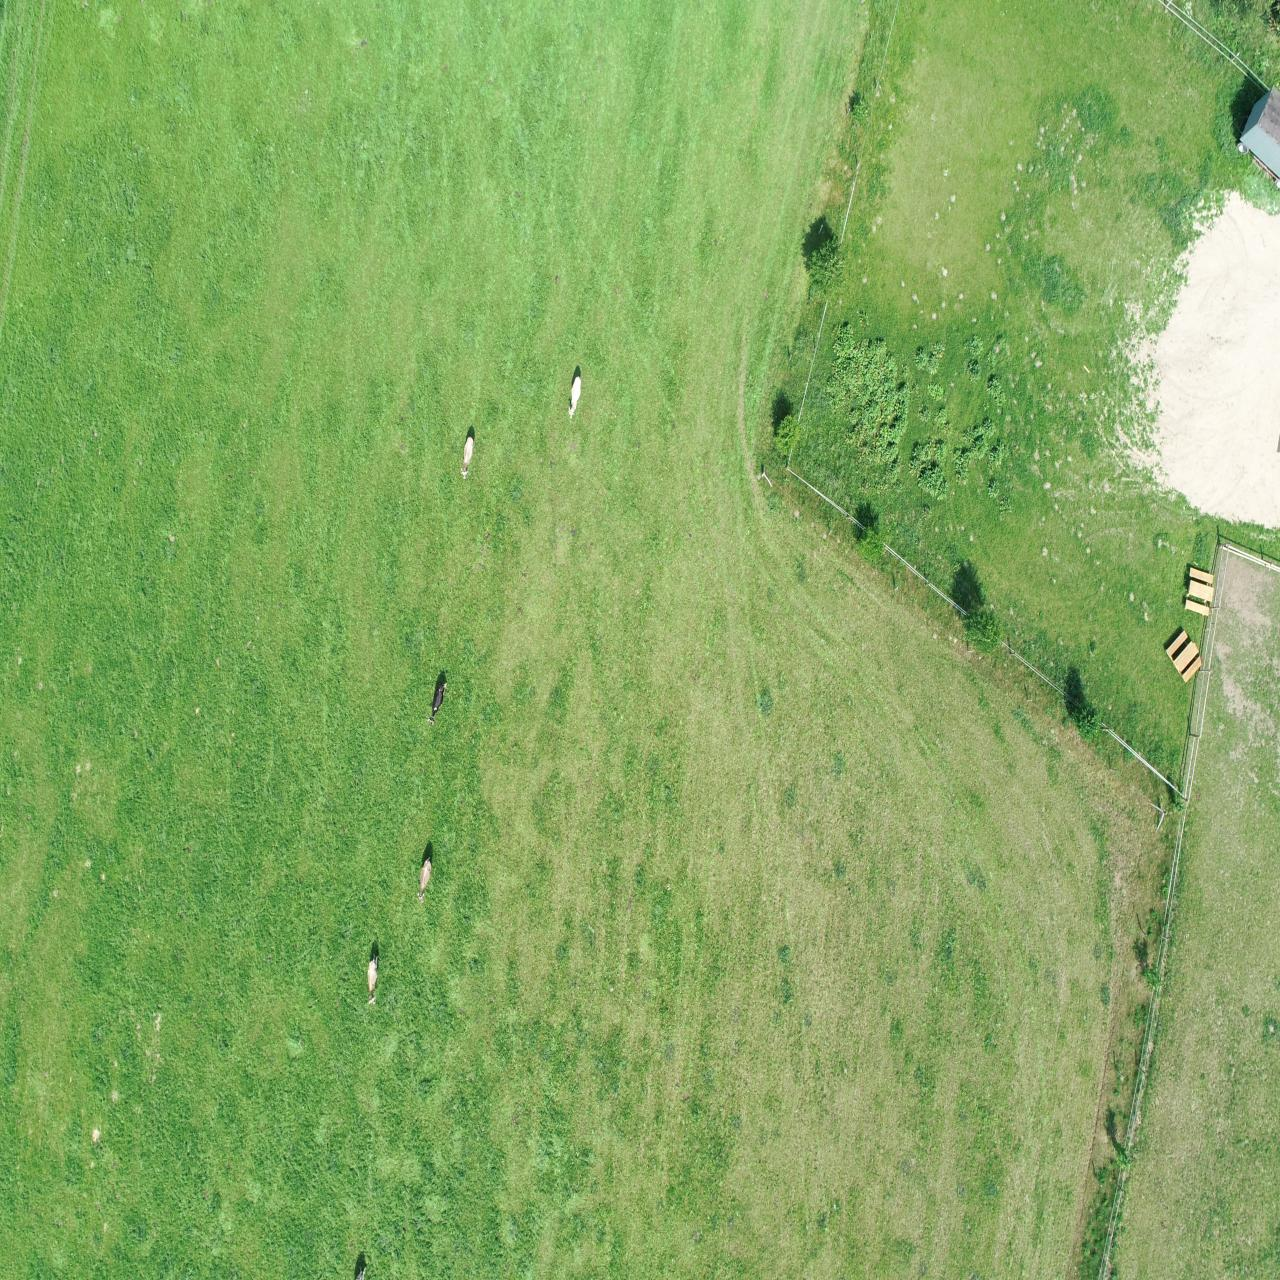cow: (424, 679, 452, 727), (363, 951, 382, 1010), (414, 852, 434, 907), (565, 374, 583, 424), (458, 433, 475, 483)
